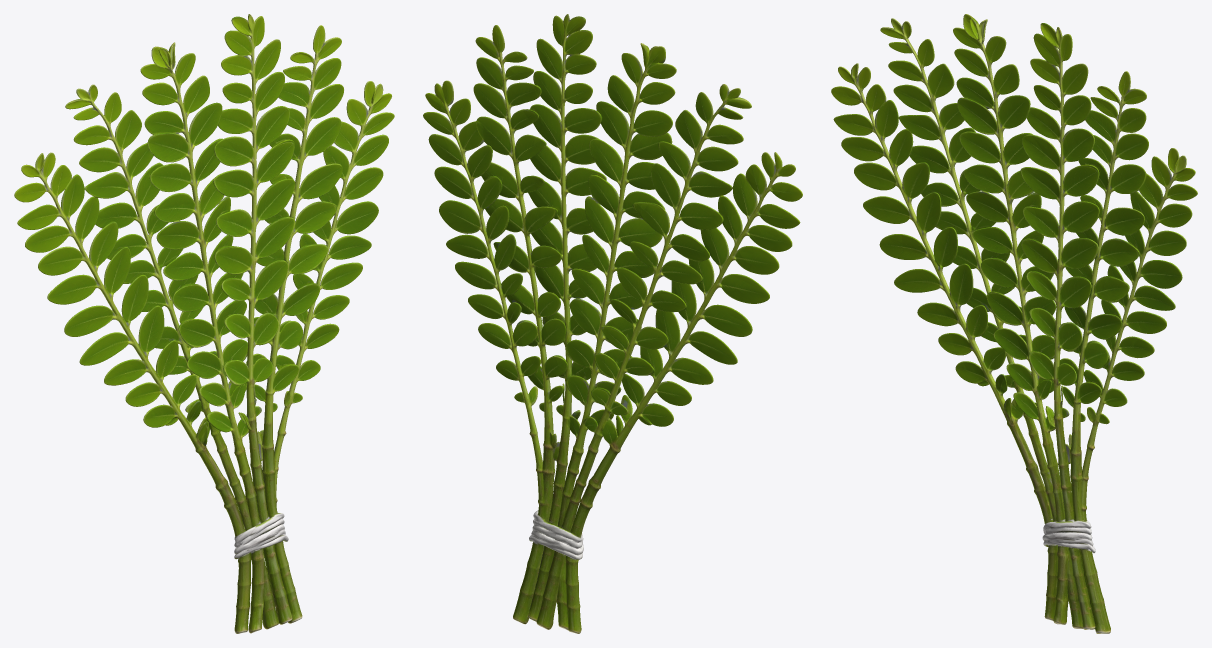
File: original-mayom.glb
3 views of the same model, side by side, from view 1: azimuth 30°, elevation 25°; view 2: azimuth 150°, elevation 25°; view 3: azimuth 330°, elevation 25° (orthographic). The views are drawn at different scales.
Visible parts, largest first — view 1: Mesh_0; view 2: Mesh_0; view 3: Mesh_0.
Boxes of the visible parts, left/top/right/bottom form: Mesh_0: left=14, top=14, right=394, bottom=633; Mesh_0: left=423, top=14, right=802, bottom=633; Mesh_0: left=831, top=14, right=1197, bottom=633.
Size of the model in its own units: 1.22 by 1.9 by 0.0612.
Materials: 1 (1 with a texture image).
